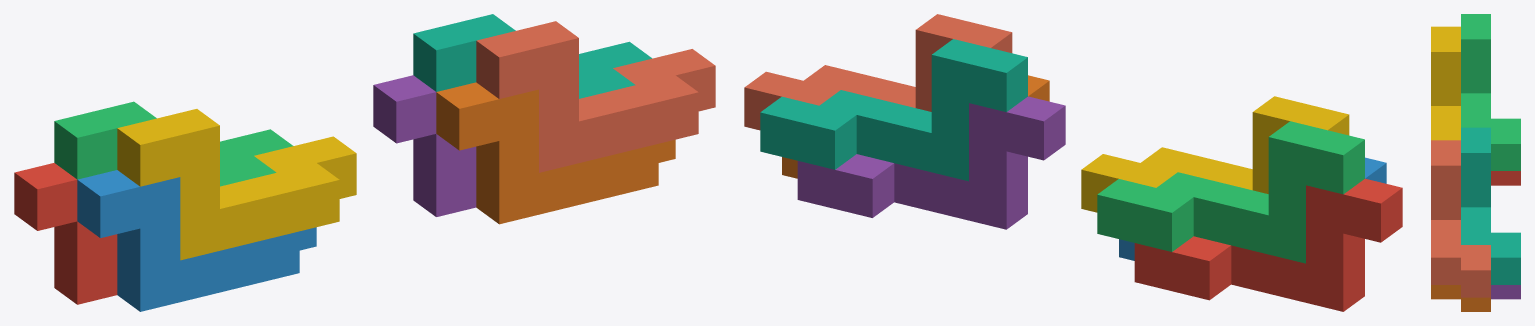
The model's file is tiling.obj.
3 renders of one model, left to right at view 1: azimuth 30°, elevation 25°; view 2: azimuth 150°, elevation 25°; view 3: azimuth 270°, elevation 25°, orthographic. The views are drawn at different scales.
Visible parts, largest first — view 1: copy_1_domain_4, copy_1_domain_8, copy_1_domain_2, copy_1_domain_6, copy_1_domain_1, copy_1_domain_5, copy_1_domain_7, copy_1_domain_3; view 2: copy_1_domain_3, copy_1_domain_7, copy_1_domain_1, copy_1_domain_5, copy_1_domain_4, copy_1_domain_8, copy_1_domain_2, copy_1_domain_6; view 3: copy_1_domain_8, copy_1_domain_7, copy_1_domain_3, copy_1_domain_4, copy_1_domain_6, copy_1_domain_1, copy_1_domain_5.
Boxes of the visible parts, x1=… form: copy_1_domain_4: x1=117, y1=109, x2=356, y2=260; copy_1_domain_8: x1=476, y1=21, x2=715, y2=172; copy_1_domain_2: x1=77, y1=170, x2=316, y2=311; copy_1_domain_6: x1=436, y1=82, x2=675, y2=224; copy_1_domain_1: x1=14, y1=163, x2=117, y2=304; copy_1_domain_5: x1=373, y1=75, x2=476, y2=216; copy_1_domain_7: x1=413, y1=14, x2=652, y2=98; copy_1_domain_3: x1=54, y1=101, x2=293, y2=186; copy_1_domain_3: x1=1097, y1=121, x2=1364, y2=263; copy_1_domain_7: x1=760, y1=39, x2=1027, y2=181; copy_1_domain_1: x1=1134, y1=178, x2=1402, y2=311; copy_1_domain_5: x1=797, y1=96, x2=1065, y2=229; copy_1_domain_4: x1=1081, y1=96, x2=1349, y2=212; copy_1_domain_8: x1=744, y1=14, x2=1012, y2=130; copy_1_domain_2: x1=1119, y1=157, x2=1386, y2=260; copy_1_domain_6: x1=782, y1=75, x2=1049, y2=178; copy_1_domain_8: x1=1431, y1=140, x2=1490, y2=297; copy_1_domain_7: x1=1461, y1=127, x2=1520, y2=284; copy_1_domain_3: x1=1461, y1=14, x2=1520, y2=170; copy_1_domain_4: x1=1431, y1=26, x2=1460, y2=140; copy_1_domain_6: x1=1431, y1=285, x2=1490, y2=311; copy_1_domain_1: x1=1491, y1=171, x2=1520, y2=185; copy_1_domain_5: x1=1491, y1=285, x2=1520, y2=299.
Size of the model in its own units: 17 by 4 by 3.
